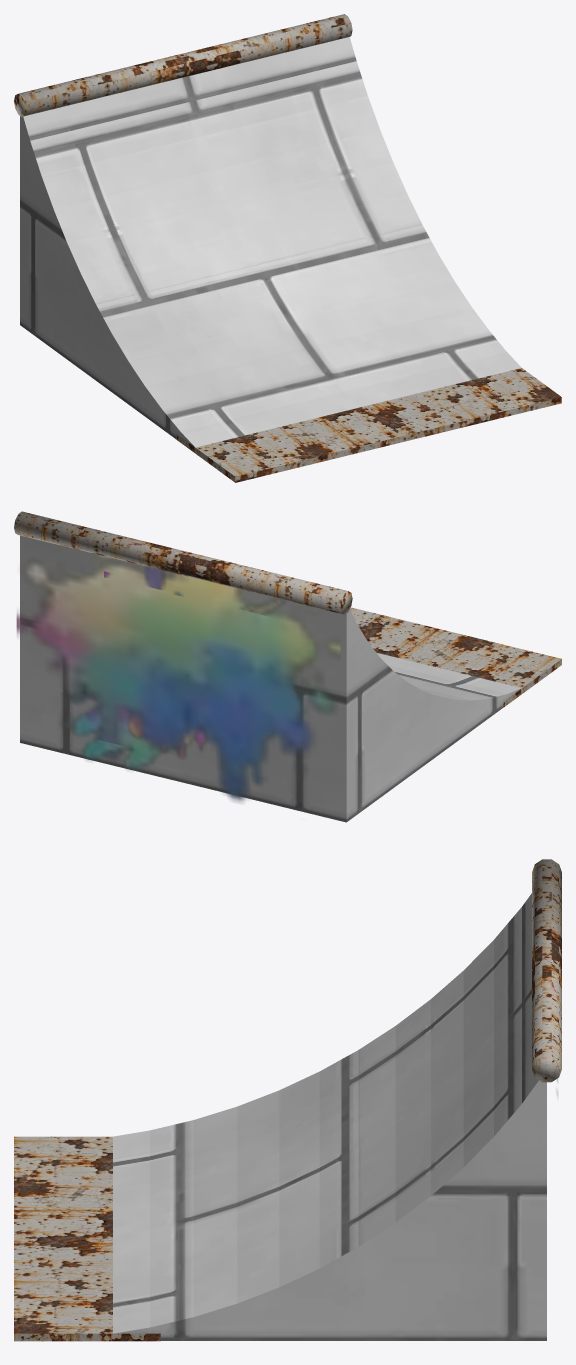
Rendered from TallKicker.glb.
3 views of the same model, one above another, from view 1: azimuth 30°, elevation 25°; view 2: azimuth 150°, elevation 25°; view 3: azimuth 270°, elevation 25° (orthographic). The views are drawn at different scales.
Parts seen in each view (by area): view 1: TallKicker_Body, TallKicker_Lip; view 2: TallKicker_Paint, TallKicker_Body, TallKicker_Lip; view 3: TallKicker_Body, TallKicker_Lip.
Part boxes in pixels (x1,y1,x2,y2): TallKicker_Body: (20,37,521,447); TallKicker_Lip: (14,14,561,482); TallKicker_Paint: (16,554,340,802); TallKicker_Body: (20,535,521,822); TallKicker_Lip: (14,511,561,707); TallKicker_Body: (113,893,546,1340); TallKicker_Lip: (14,859,561,1341).
Size of the model in its own units: 1.4 by 0.9768 by 1.64.
3 materials, 3 textured.
